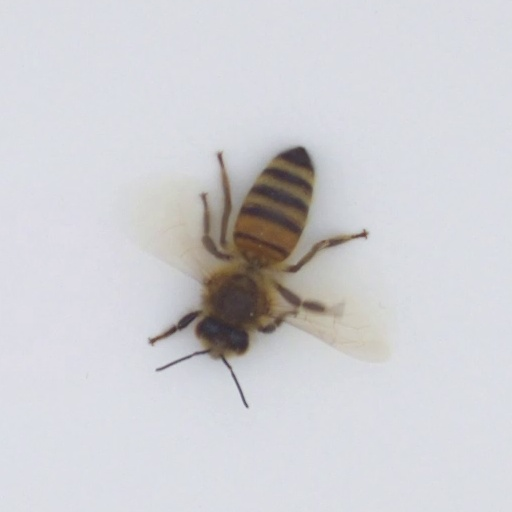Bee: (189, 143, 322, 360)
Thorax: (198, 267, 272, 330)
